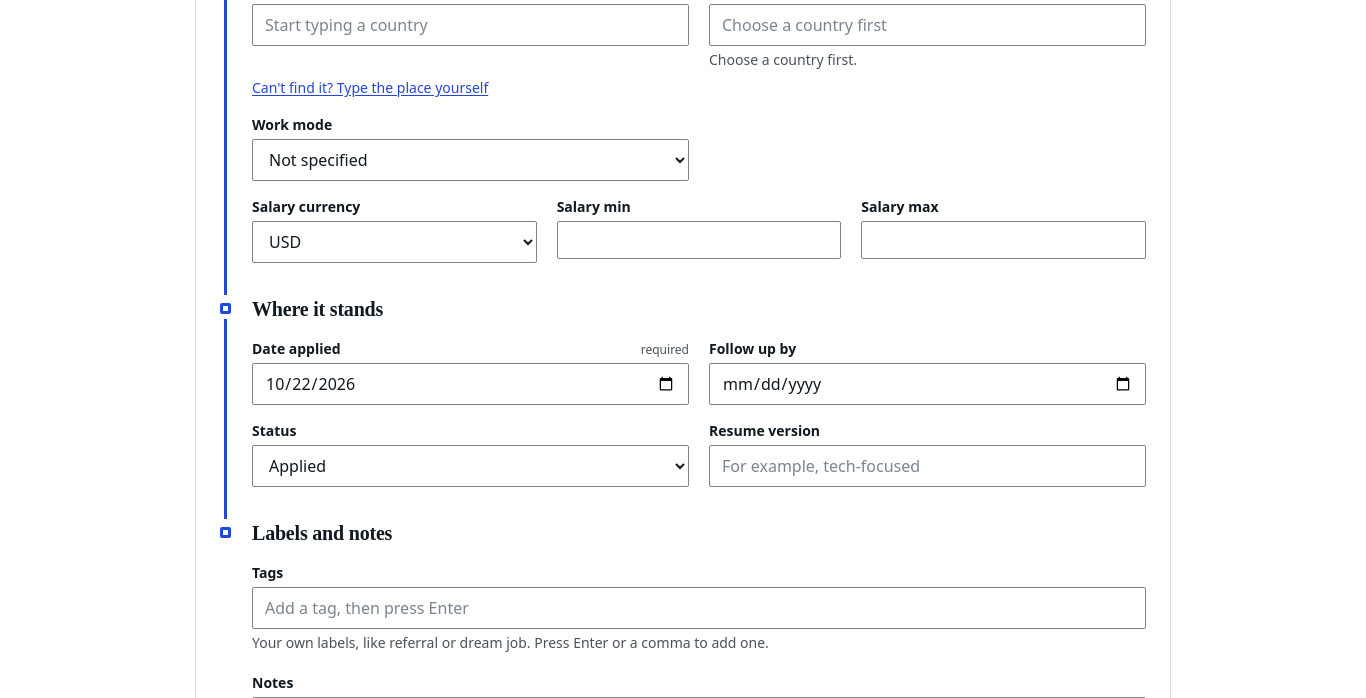
it: add application: inline validation › requires the date applied
(page scrolled)
Clear the date field labelled "Date applied": (470, 384) [252,363,689,405]
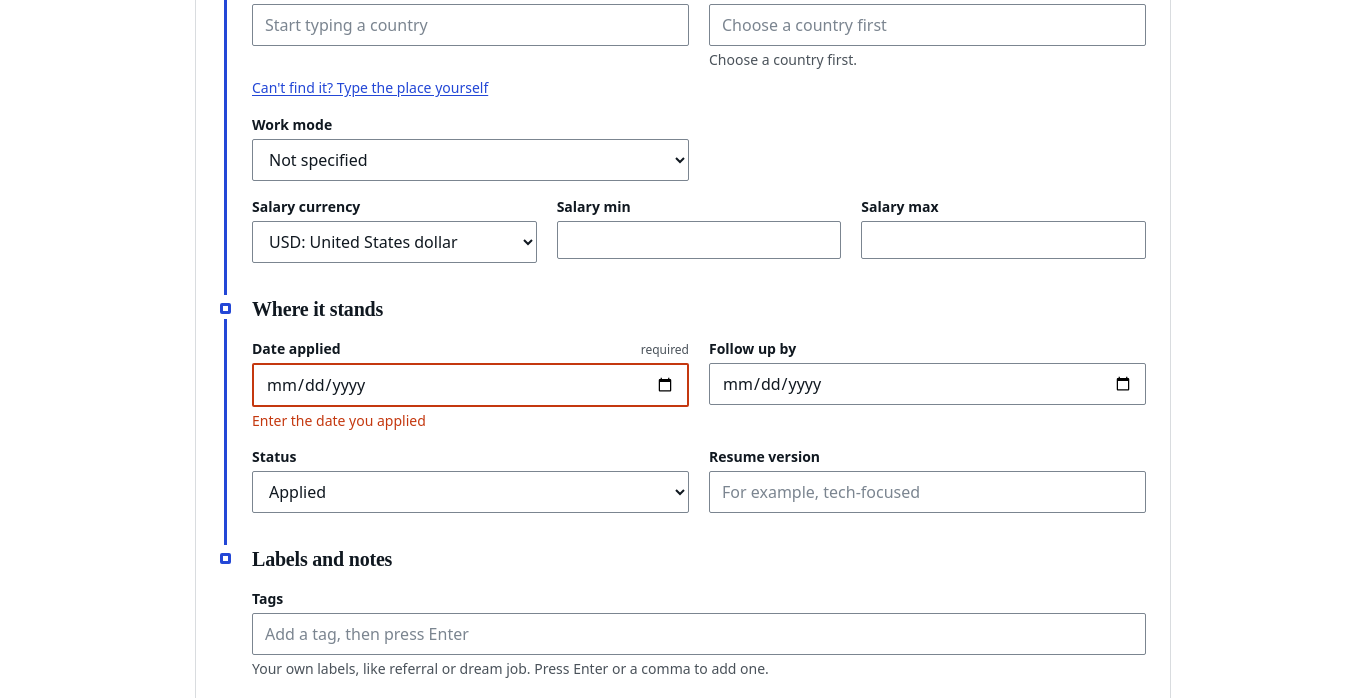
Check: the text "Enter the date you applied" is shown, box [252,411,426,430]
